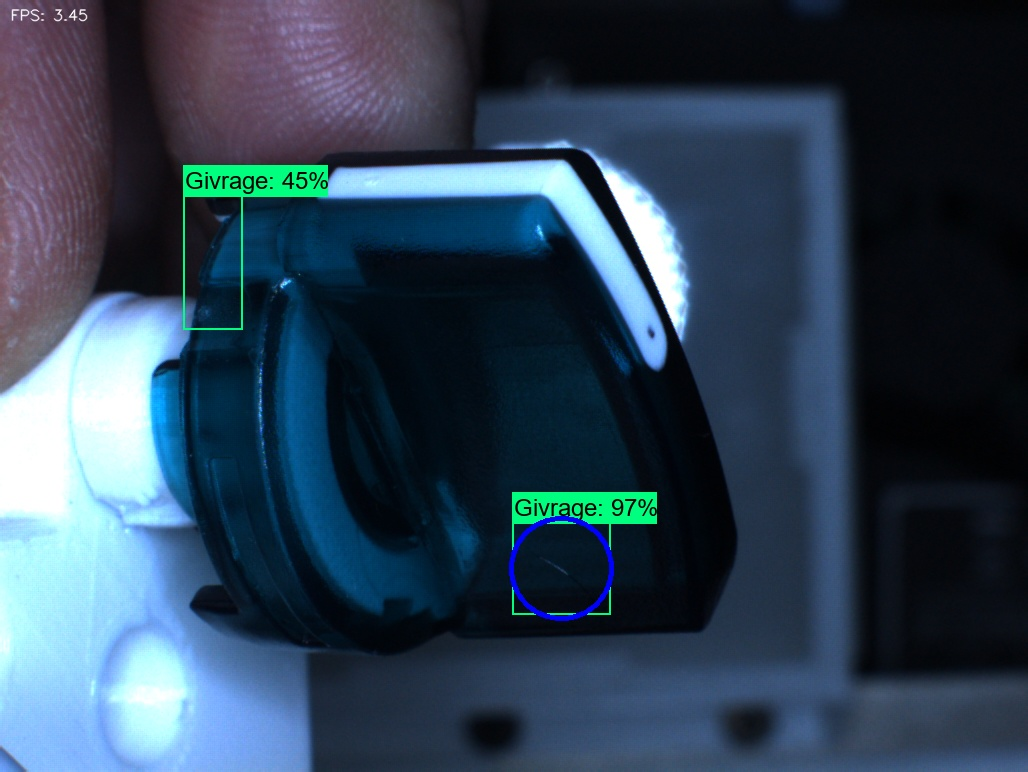PointNoir: (620, 292, 692, 374)
